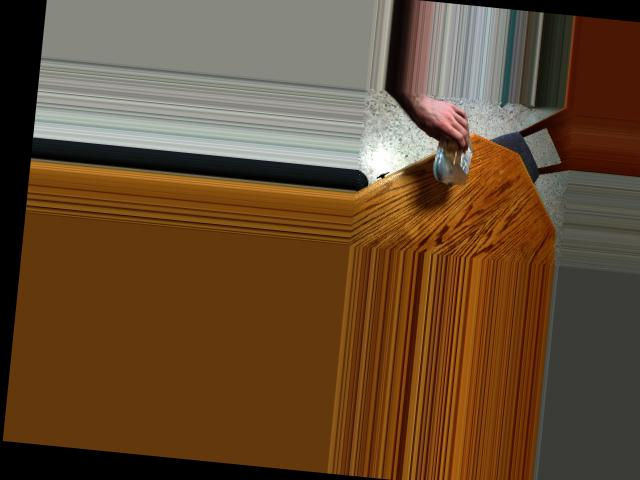cheese: (408, 126, 487, 187)
